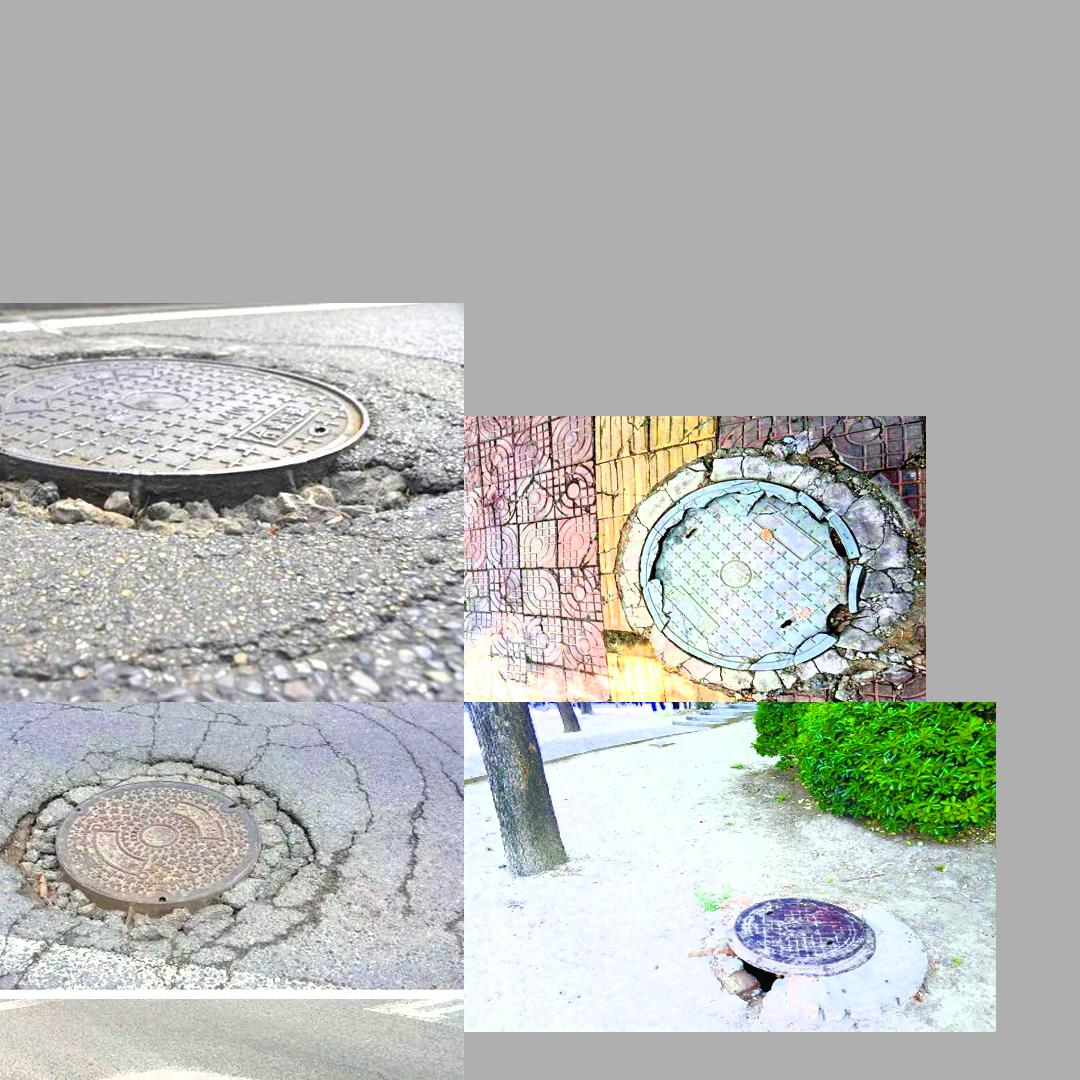circle: (0, 340, 441, 549), (608, 449, 907, 688), (0, 755, 335, 954), (674, 892, 934, 1016)
